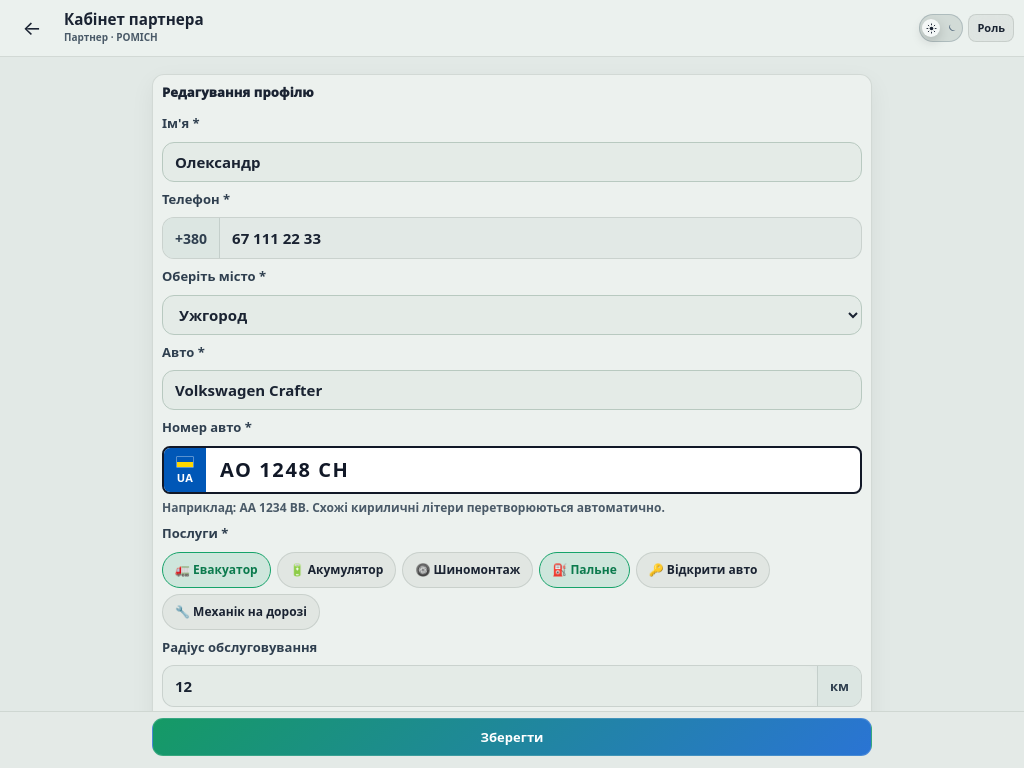
Test: ProviderCabinet › prefills edit form when opened with initialEditing and saves with feedback
The image size is (1024, 768).
Replace the text in the field with placeholder "Ваше ім'я" with "Михайло" at [512, 162], box x1=162 y1=142 x2=862 y2=182
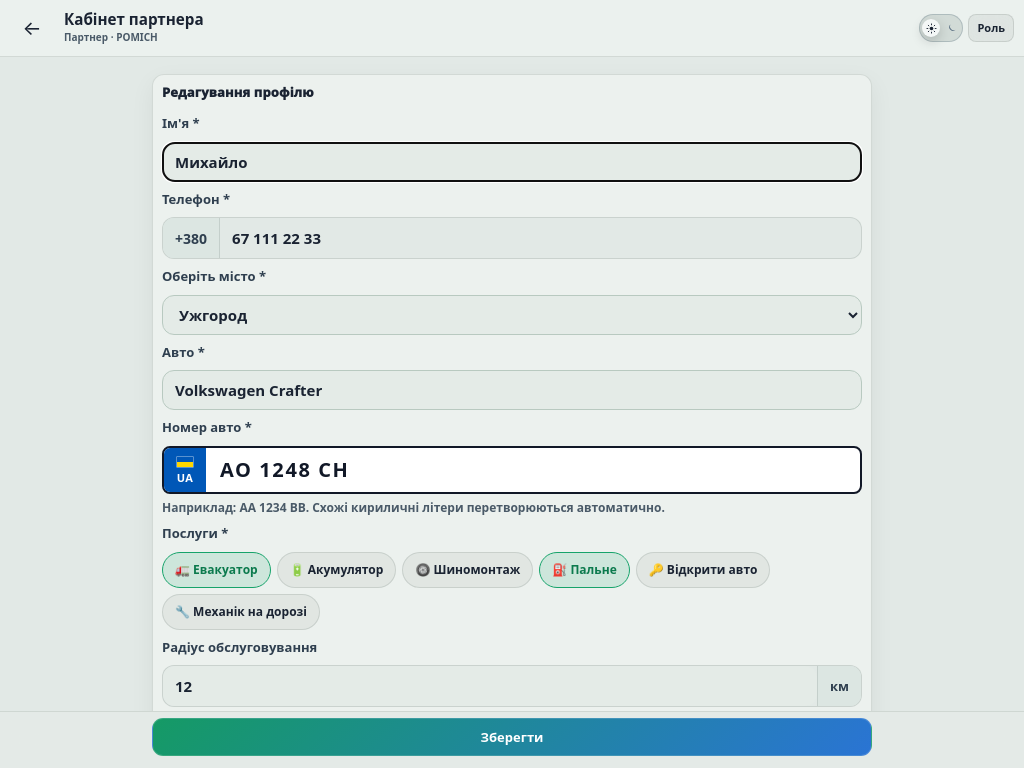
Click the button "Зберегти".
click(512, 737)  # box x1=152 y1=718 x2=872 y2=756
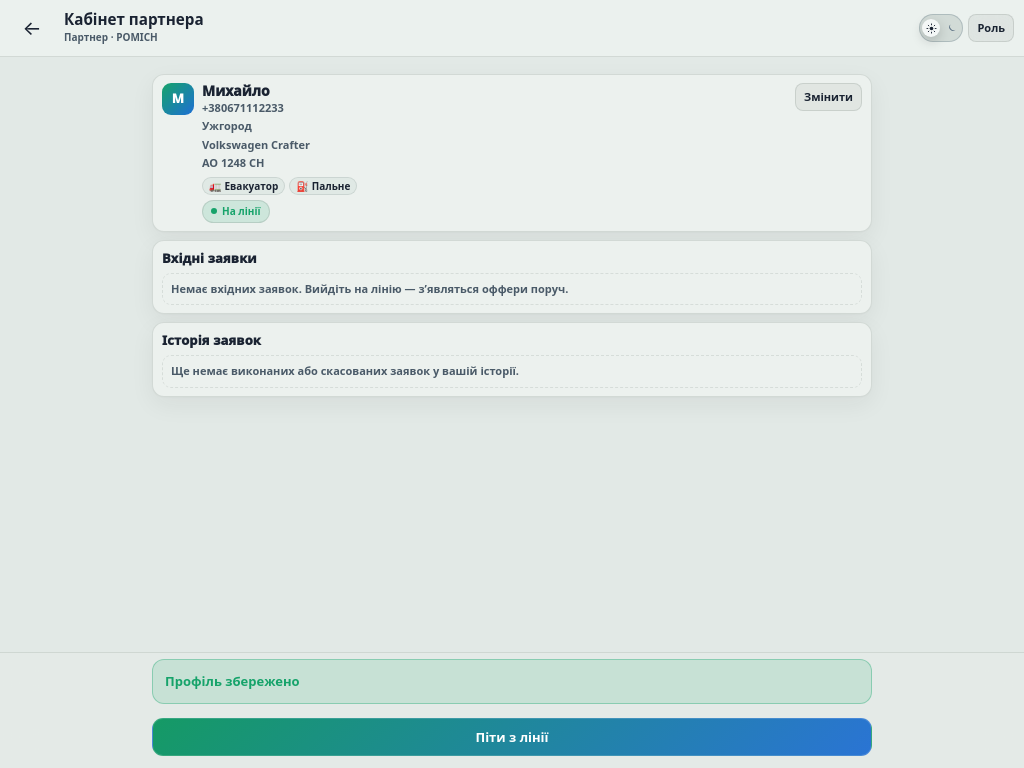
Expected: the text "Профіль збережено" is shown, x1=152 y1=658 x2=872 y2=704
